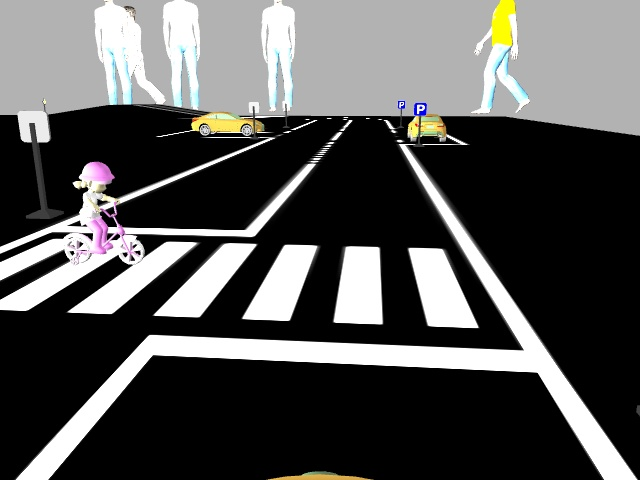Parking: (413, 101, 427, 116), (397, 98, 405, 108)
Pedestrian: (61, 158, 148, 269)
